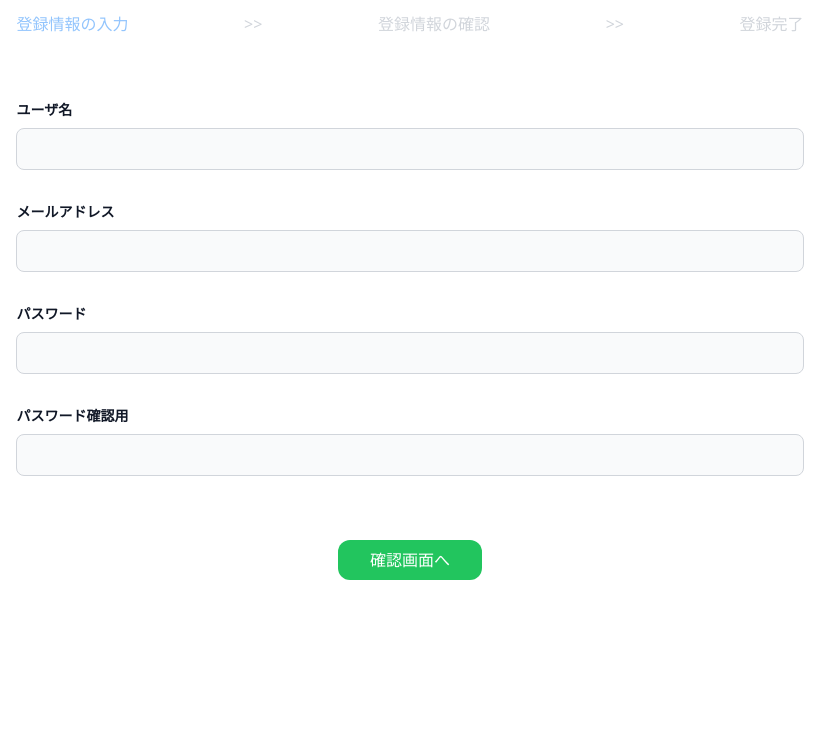
it: pages/auth/sign_up/components/organisms/SignUpInput › バリデーションエラーがある場合 › 確認画面へ遷移せず、パリデーションエラーが表示される
What coordinates should you click on to do the following:
click the button
I would click on:
 (410, 560)
Its box is [338, 540, 482, 580].
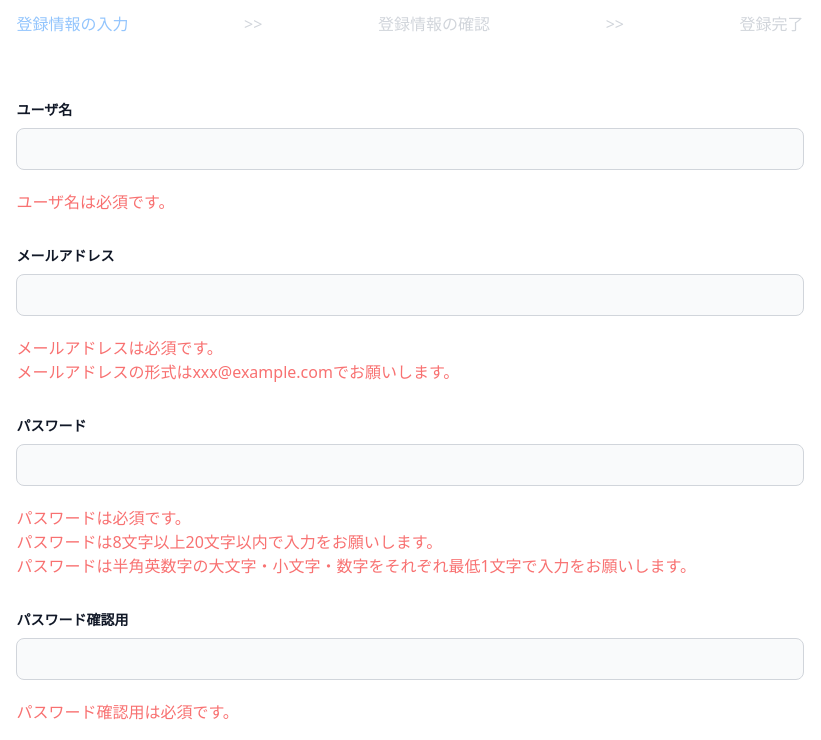
Expected: the text "ユーザ名は必須です。" is shown, [16, 191, 174, 213]
Expected: the text "メールアドレスは必須です。" is shown, [16, 337, 223, 359]
Expected: the text "メールアドレスの形式はxxx@example.comでお願いします。" is shown, [16, 361, 459, 383]
